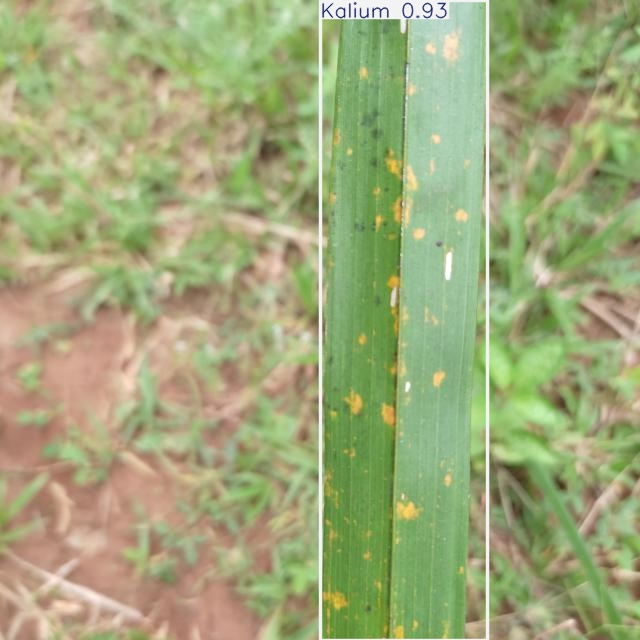Kalium: (320, 0, 488, 640)
